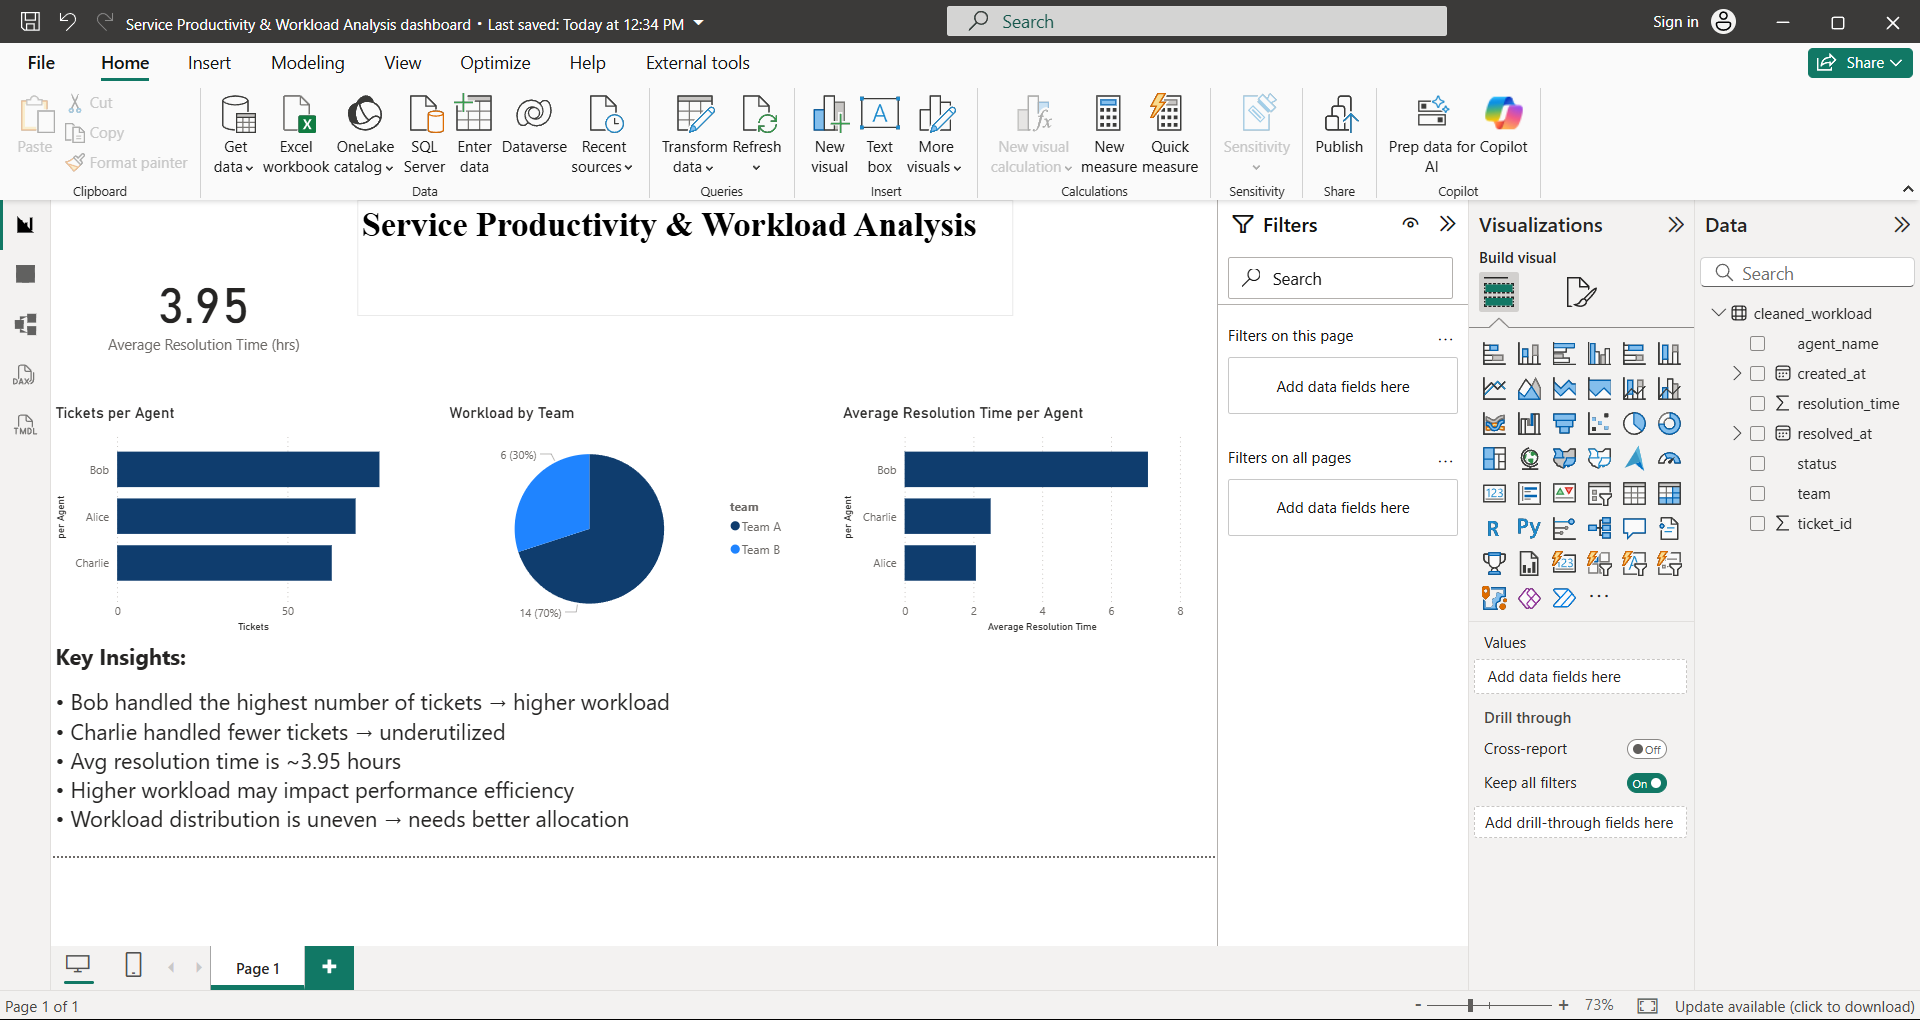

Layout of this report page (visuals, bound fields, positions):
{"tool":"powerbi","page":{"name":"Page 1","canvas":[1280,720],"ordinal":0},"visuals":[{"type":"card","title":"Avg Resolution Time (hrs)","fields":{"Values":["Avg(cleaned_workload.resolution_time)"]},"box":[0,16,336,208],"z":0},{"type":"barChart","title":"Tickets per Agent","fields":{"Y":["Sum(cleaned_workload.ticket_id)"],"Category":["cleaned_workload.agent_name"]},"box":[0,224,384,256],"z":1000},{"type":"pieChart","title":"Workload by Team","fields":{"Category":["cleaned_workload.team"],"Y":["CountNonNull(cleaned_workload.ticket_id)"]},"box":[432,224,384,256],"z":2000},{"type":"clusteredBarChart","title":"Average Resolution Time per Agent","fields":{"Category":["cleaned_workload.agent_name"],"Y":["Avg(cleaned_workload.resolution_time)"]},"box":[864,224,384,256],"z":3000},{"type":"textbox","box":[336,0,720,128],"z":4000},{"type":"textbox","box":[0,480,816,240],"z":5000}]}

Visuals, with their boxes on the page's 1280x720 design canvas (x1, y1, x2, y2). These are canvas units, not pixel positions in the 1920x1020 screenshot, which may show the page scaled, cropped or inside an application window:
"Avg Resolution Time (hrs)" card: box(0, 16, 336, 224)
"Tickets per Agent" barChart: box(0, 224, 384, 480)
"Workload by Team" pieChart: box(432, 224, 816, 480)
"Average Resolution Time per Agent" clusteredBarChart: box(864, 224, 1248, 480)
textbox: box(336, 0, 1056, 128)
textbox: box(0, 480, 816, 720)
